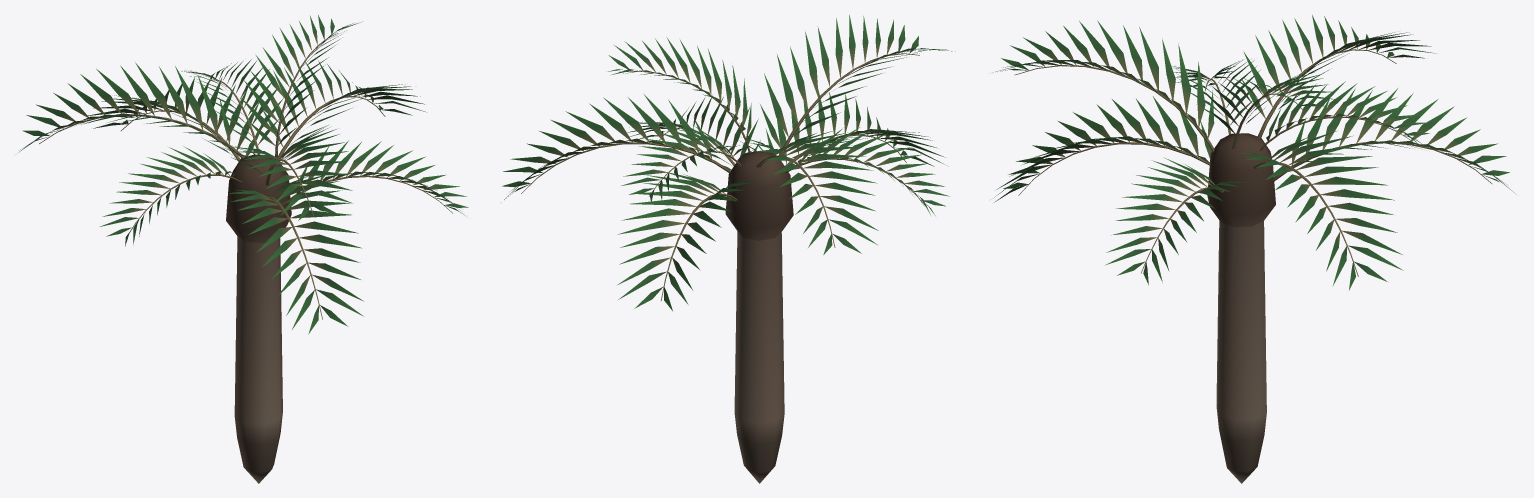
The model's file is trees-palms-ferns-date-palm_v1.fbx.
3 views of the same model, side by side, from view 1: azimuth 30°, elevation 25°; view 2: azimuth 150°, elevation 25°; view 3: azimuth 270°, elevation 25° (orthographic). The views are drawn at different scales.
Visible parts, largest first — view 1: Date Palm_v1; view 2: Date Palm_v1; view 3: Date Palm_v1.
Part boxes in pixels (x1,y1,x2,y2): Date Palm_v1: [18, 15, 468, 483]; Date Palm_v1: [502, 14, 955, 483]; Date Palm_v1: [993, 15, 1516, 483].
Size of the model in its own units: 7.27 by 7.48 by 8.
